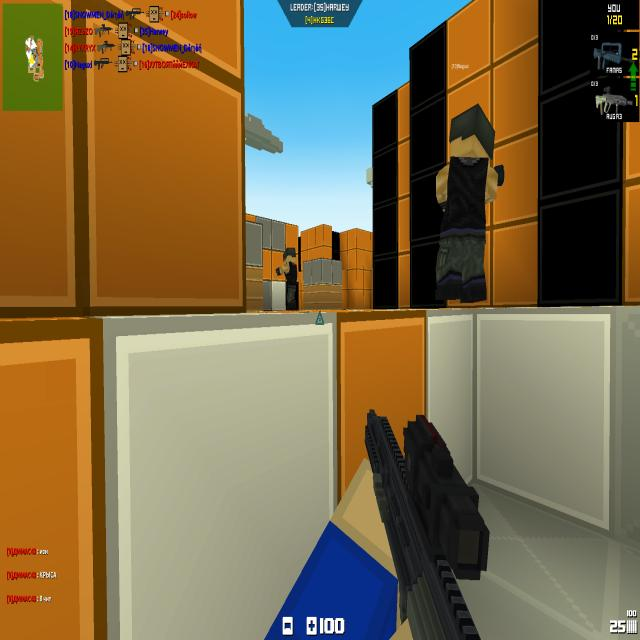enemy: (275, 245, 300, 312)
